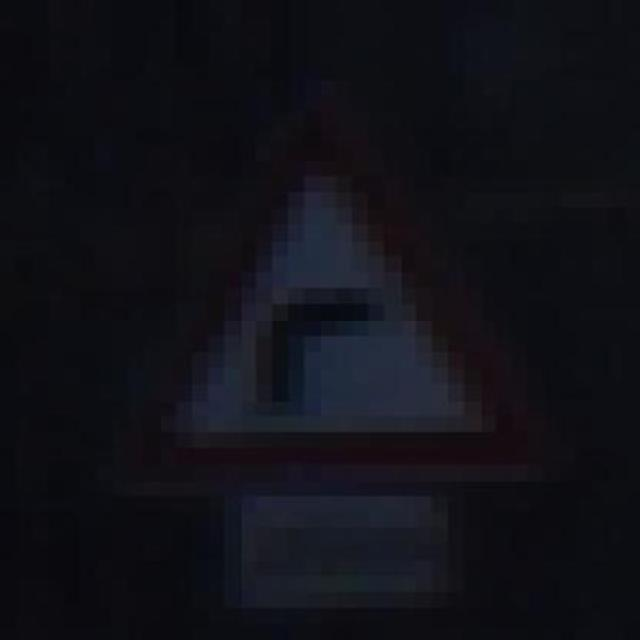Dangerous Rright Curve Ahead: (111, 112, 528, 496)
